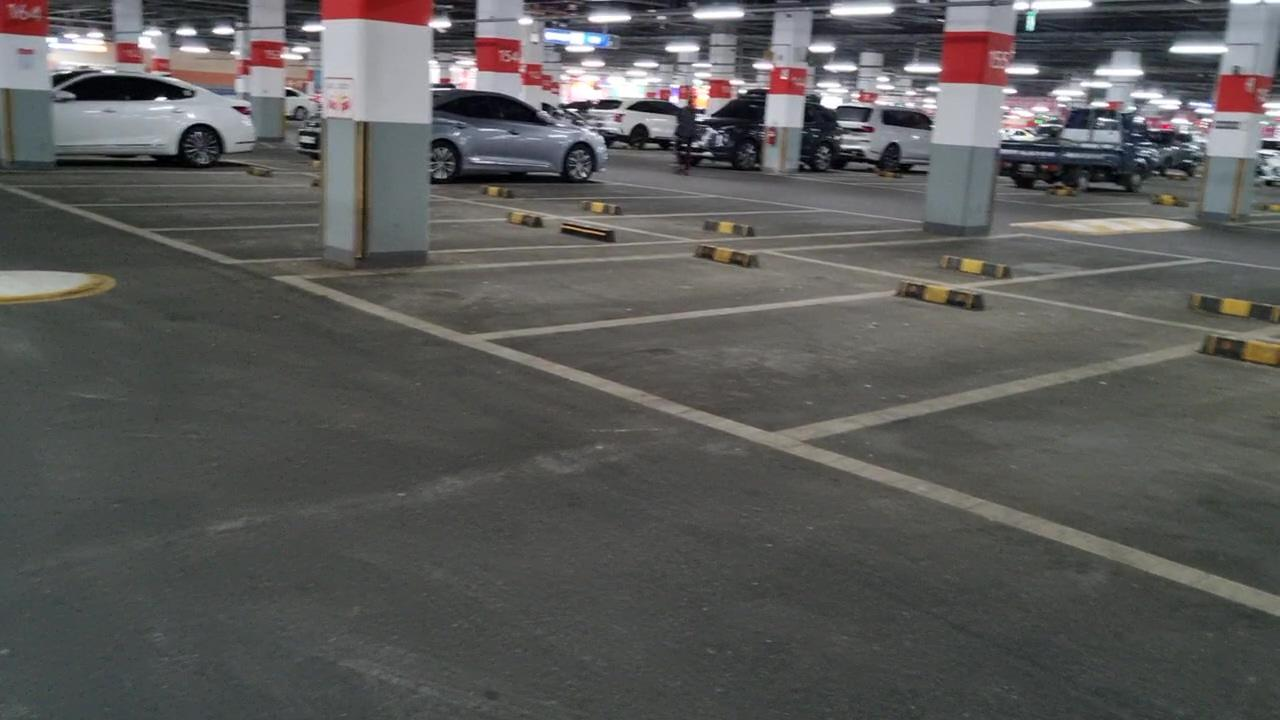empty: (475, 281, 1259, 454), (273, 250, 961, 348), (135, 214, 674, 270), (73, 198, 540, 238), (2, 179, 301, 220)
